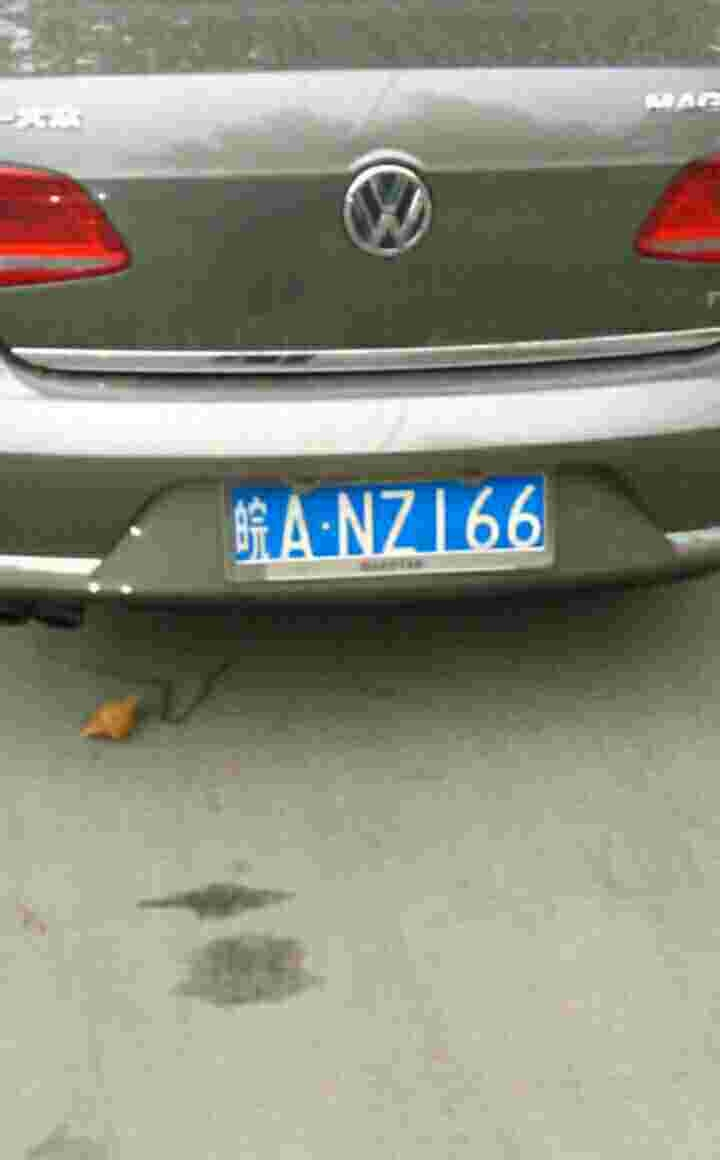license_plate: (235, 482, 543, 569)
